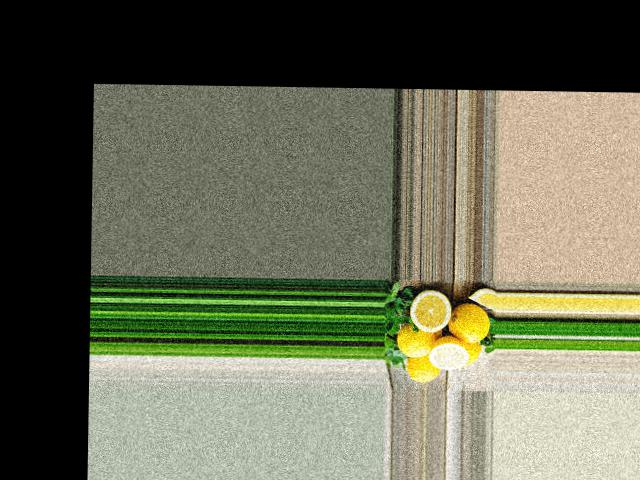lemon: (459, 339, 483, 367)
